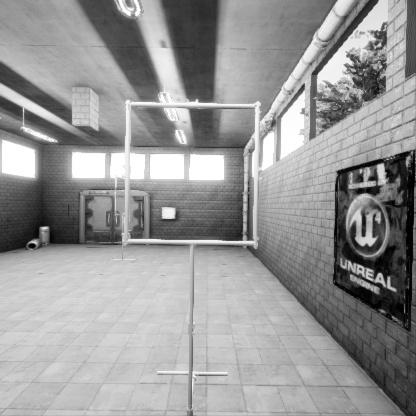gate: (126, 175, 273, 322), (114, 202, 130, 242)
